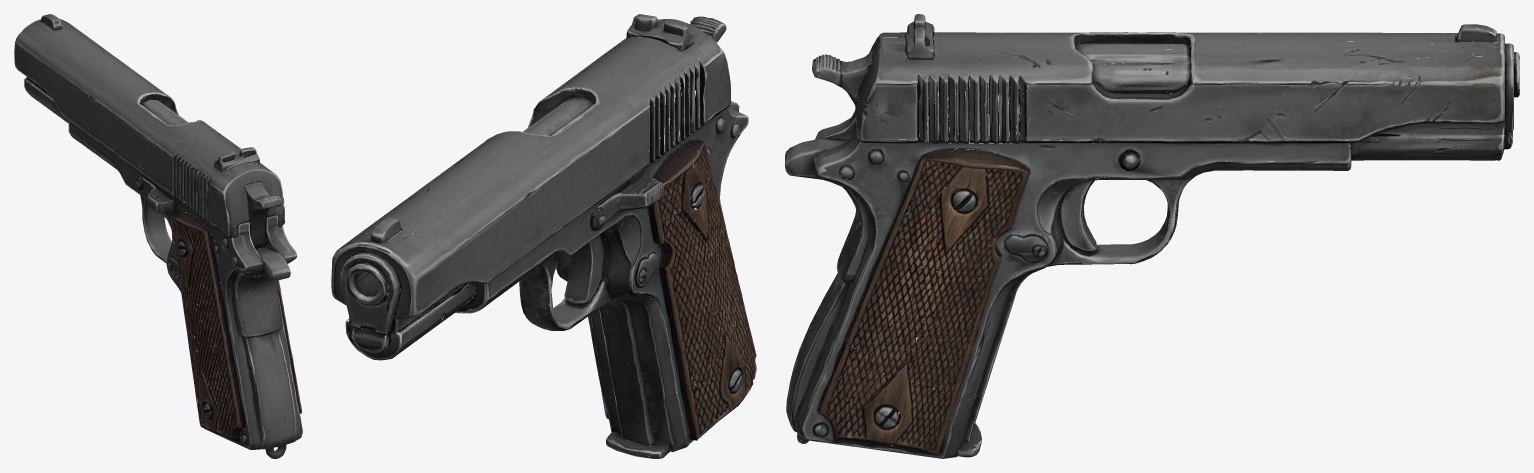
File: pistol.glb
The picture shows the model from 3 angles, left to right: view 1: azimuth 30°, elevation 25°; view 2: azimuth 150°, elevation 25°; view 3: azimuth 270°, elevation 25°; orthographic projection. The views are drawn at different scales.
Visible parts, largest first — view 1: tripo_node_e262becc-ffcd-4d11-8241-015156247d83; view 2: tripo_node_e262becc-ffcd-4d11-8241-015156247d83; view 3: tripo_node_e262becc-ffcd-4d11-8241-015156247d83.
Boxes of the visible parts, bbox=[...] form: tripo_node_e262becc-ffcd-4d11-8241-015156247d83: bbox=[14, 14, 302, 458]; tripo_node_e262becc-ffcd-4d11-8241-015156247d83: bbox=[331, 14, 756, 458]; tripo_node_e262becc-ffcd-4d11-8241-015156247d83: bbox=[785, 14, 1519, 458].
Bounding box in the file's own units: 0.0424 × 0.1358 × 0.215.
1 material, 1 textured.
